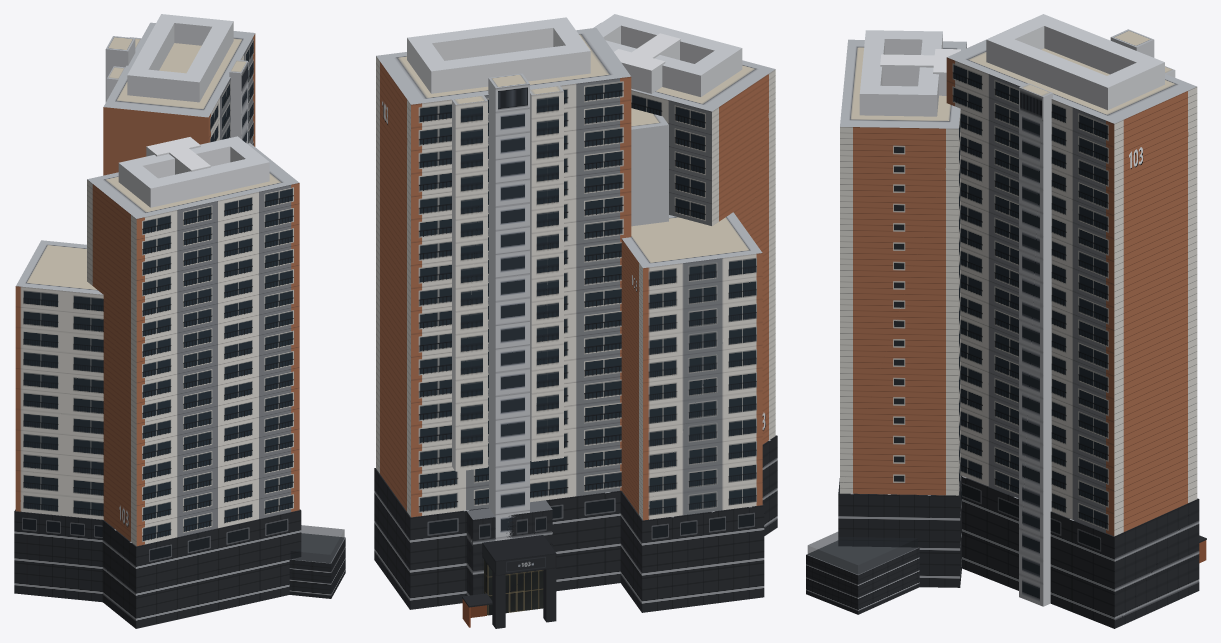
Rendered from 3D_place_103.glb.
The picture shows the model from 3 angles, left to right: view 1: azimuth 30°, elevation 25°; view 2: azimuth 150°, elevation 25°; view 3: azimuth 270°, elevation 25°; orthographic projection. The views are drawn at different scales.
Parts seen in each view (by area): view 1: KumhoParkHills_103; view 2: KumhoParkHills_103, Dong103_PhotoMatched_Entrance; view 3: KumhoParkHills_103.
Part boxes in pixels (box(x1,y1,x2,y2)): KumhoParkHills_103: box(14, 14, 345, 628); KumhoParkHills_103: box(374, 14, 777, 612); Dong103_PhotoMatched_Entrance: box(462, 535, 556, 628); KumhoParkHills_103: box(806, 14, 1199, 628).
Bounding box in the file's own units: 38.55 × 58.6 × 40.41.
Materials: 45 (19 with a texture image).
